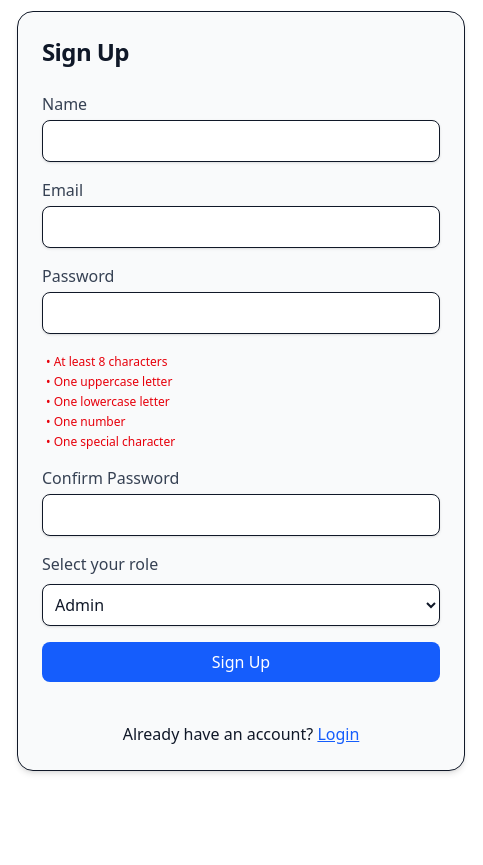
Register Page - unit tests (validation & UI) › should show error if passwords are different
The width and height of the screenshot is (483, 865).
Type "FdT&8njC" into the password field labelled "Password". click: point(241, 313)
box: 42,292 -> 440,334
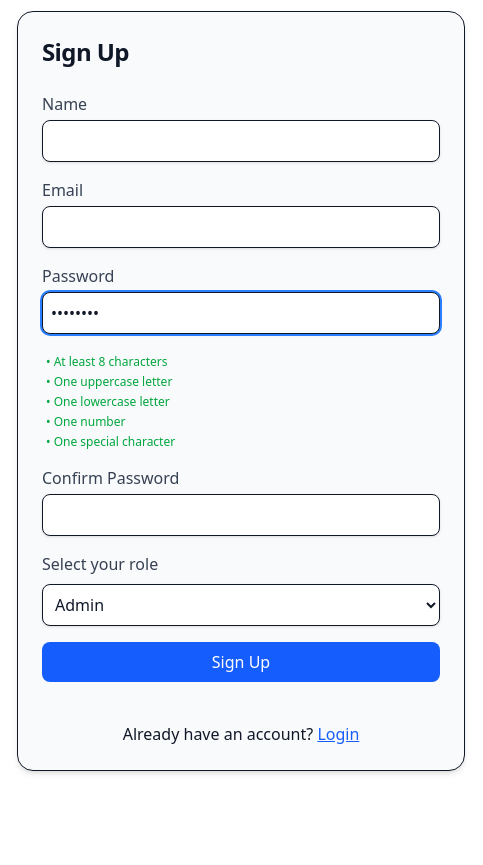
Type "xyzw4567" into the password field labelled "Confirm Password". click: point(241, 515)
box: 42,494 -> 440,536
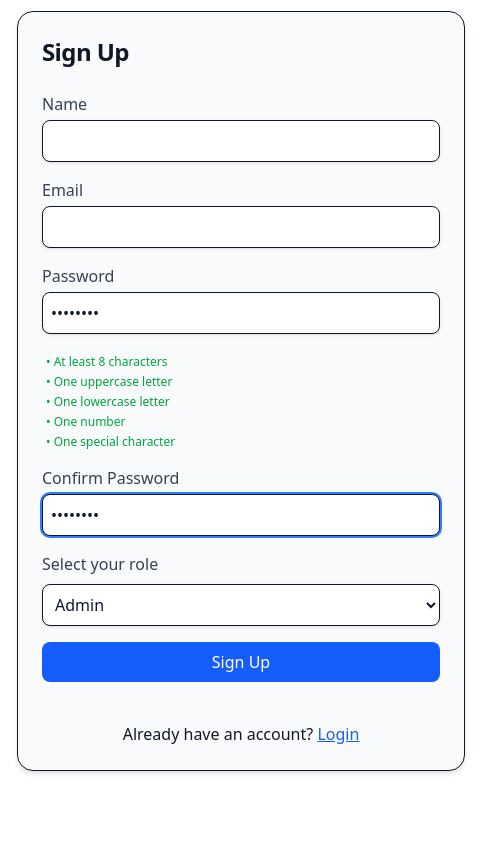
Click the button "Sign Up". click: point(241, 662)
box: 42,642 -> 440,682
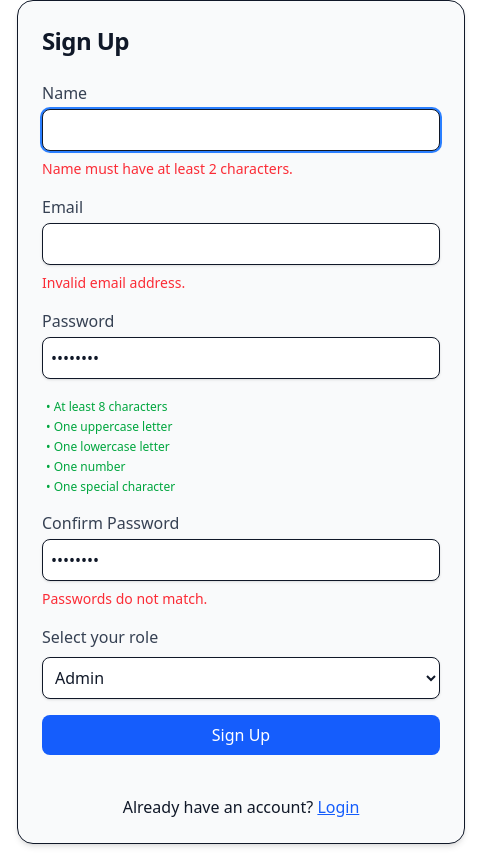
Expected: the text "Passwords do not match." is shown, 42,589 -> 207,608
